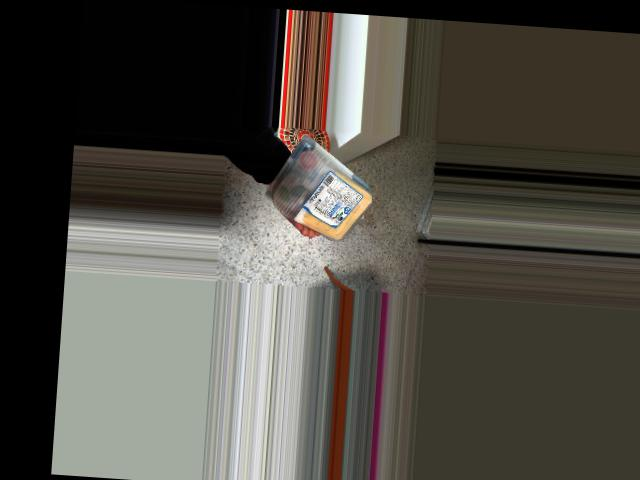cheese: (279, 174, 376, 233)
